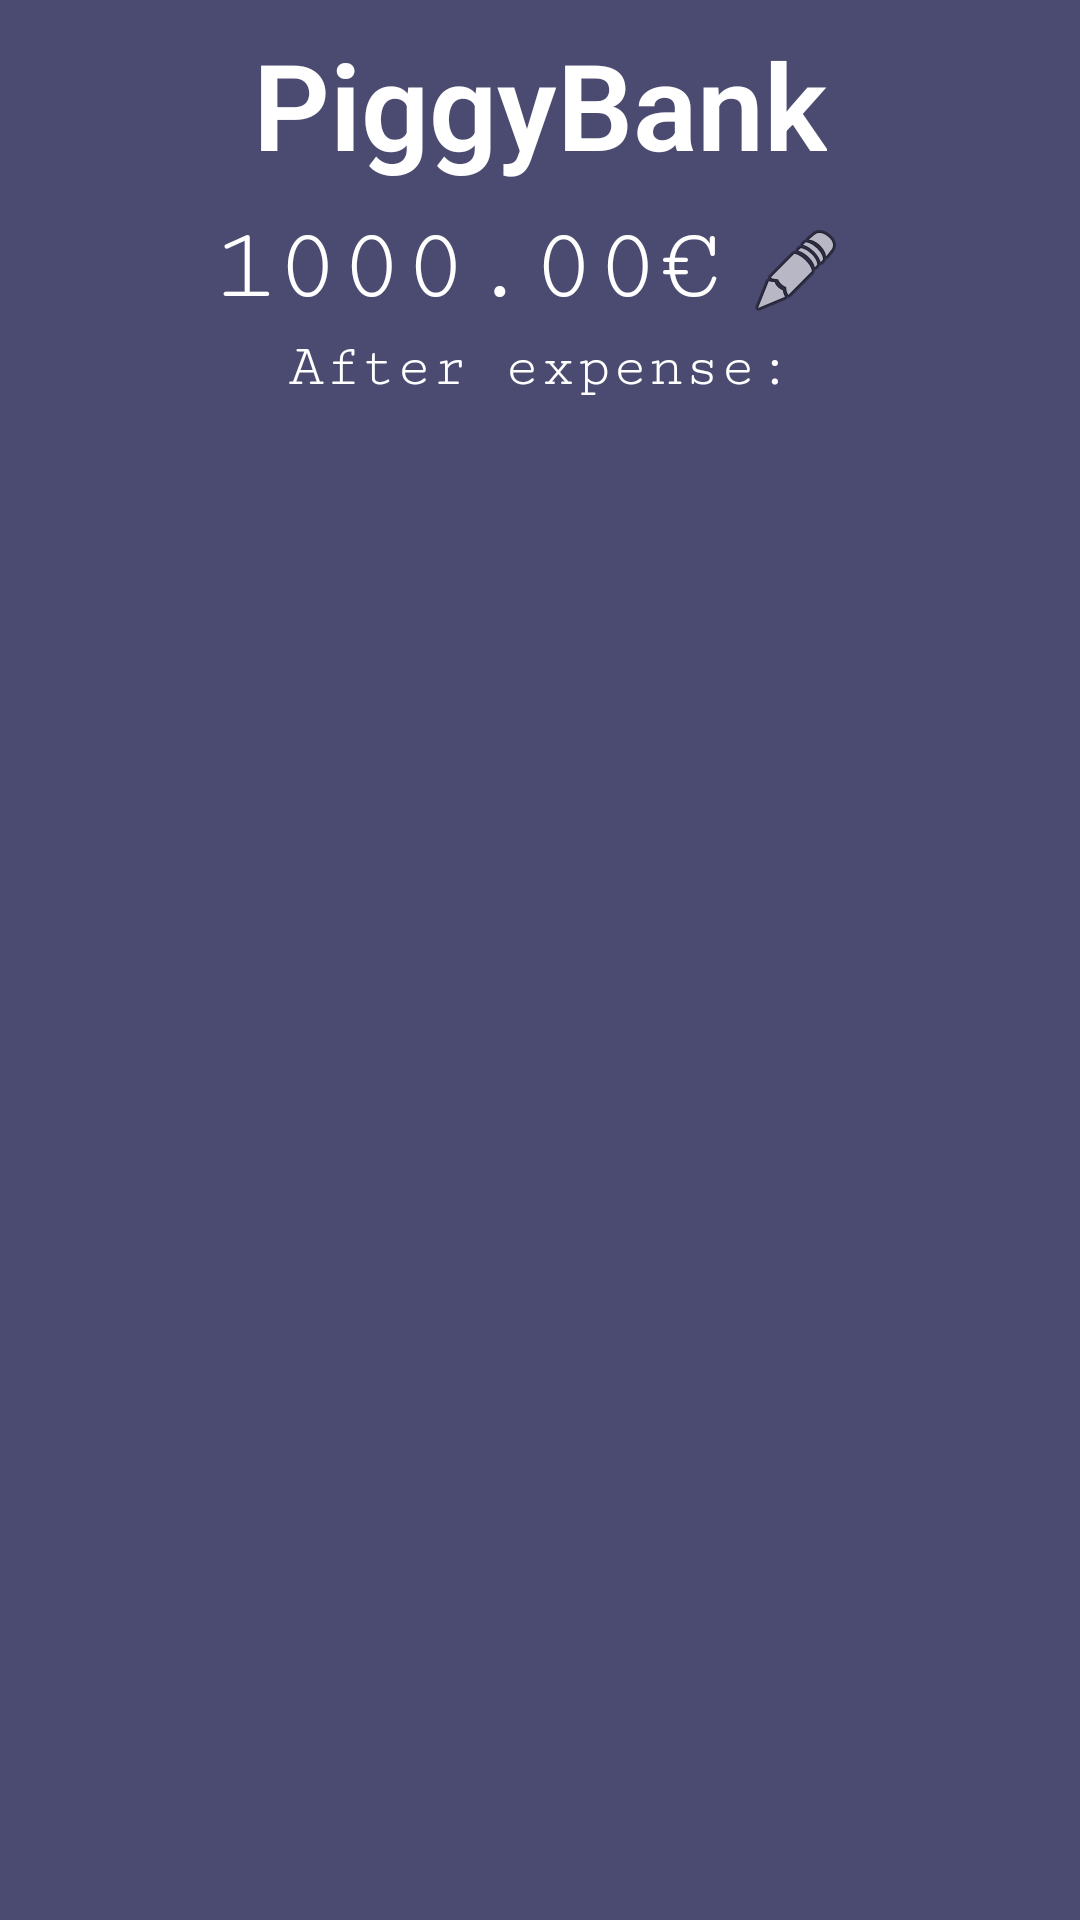

Icon bounding boxes for this 1080x1920 phone screenshot, format (x1, y1, x2, y2):
edit: (755, 230, 836, 311)
